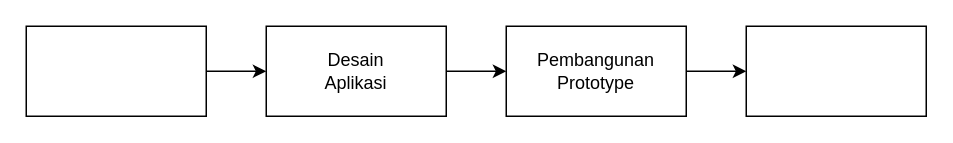
Some shapes in this 953 by 143 pixel diagram are drawn without their labels. Here are the shapes that lost their labels. From the top down, the centre of each, then its label:
At [115,70]: "Pengumpulan kebutuhan".
At [835,70]: "Evaluasi".
